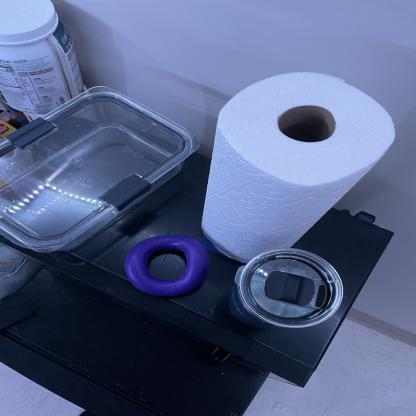ring: (124, 233, 210, 296)
